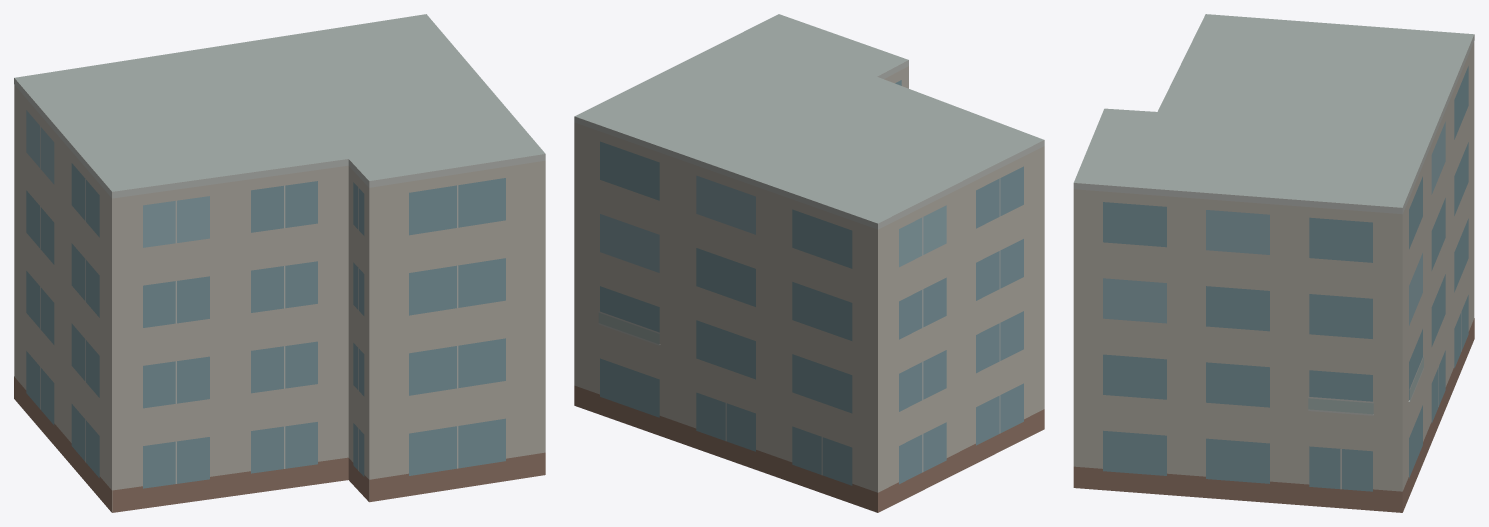
The model's file is survey-upis-32712246.glb.
3 views of the same model, side by side, from view 1: azimuth 30°, elevation 25°; view 2: azimuth 150°, elevation 25°; view 3: azimuth 270°, elevation 25° (orthographic). The views are drawn at different scales.
Visible parts, largest first — view 1: survey-upis-32712246.tmp; view 2: survey-upis-32712246.tmp; view 3: survey-upis-32712246.tmp.
Boxes of the visible parts, x1,y1,x2,y2 form: survey-upis-32712246.tmp: (14,14,545,512); survey-upis-32712246.tmp: (574,14,1044,512); survey-upis-32712246.tmp: (1073,14,1474,512).
Bounding box in the file's own units: 15.96 × 11.7 × 13.94.
